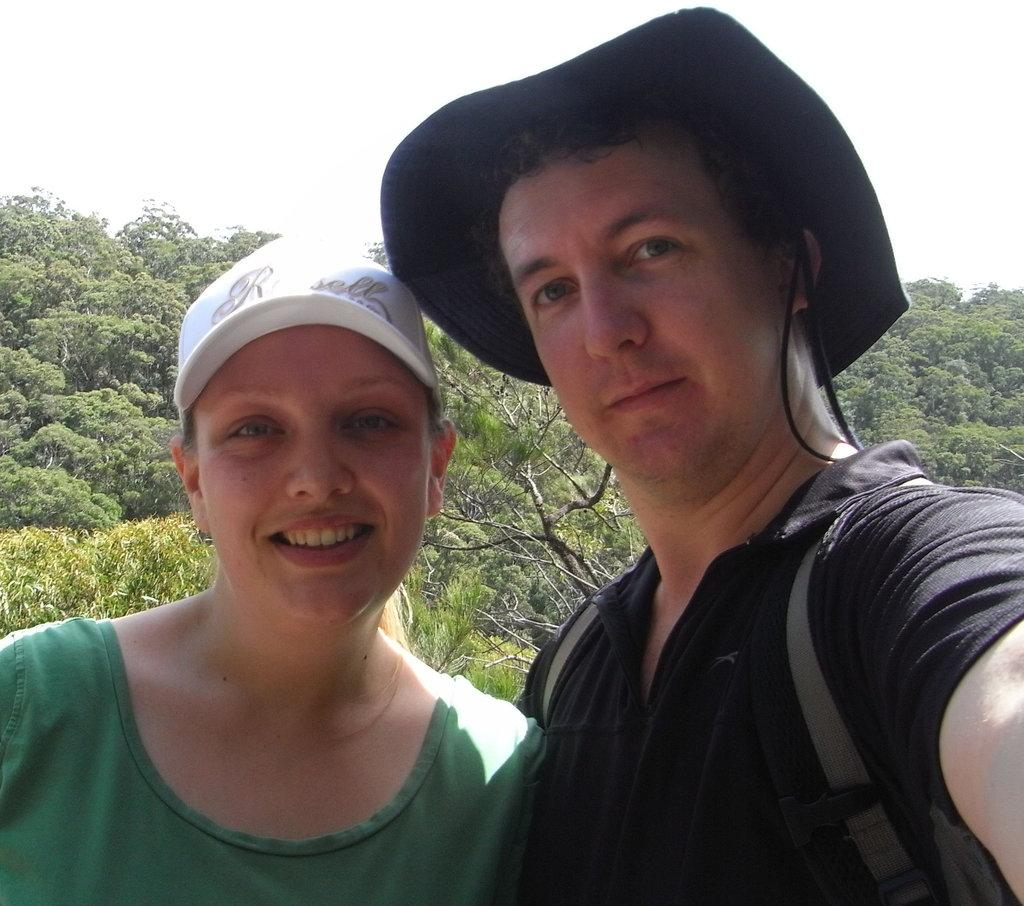Hat: (378, 4, 912, 457), (171, 233, 437, 410)
